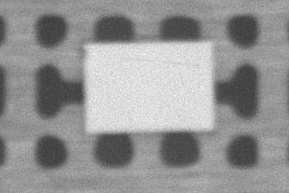DIE_CRACK: (181, 39, 289, 43)
